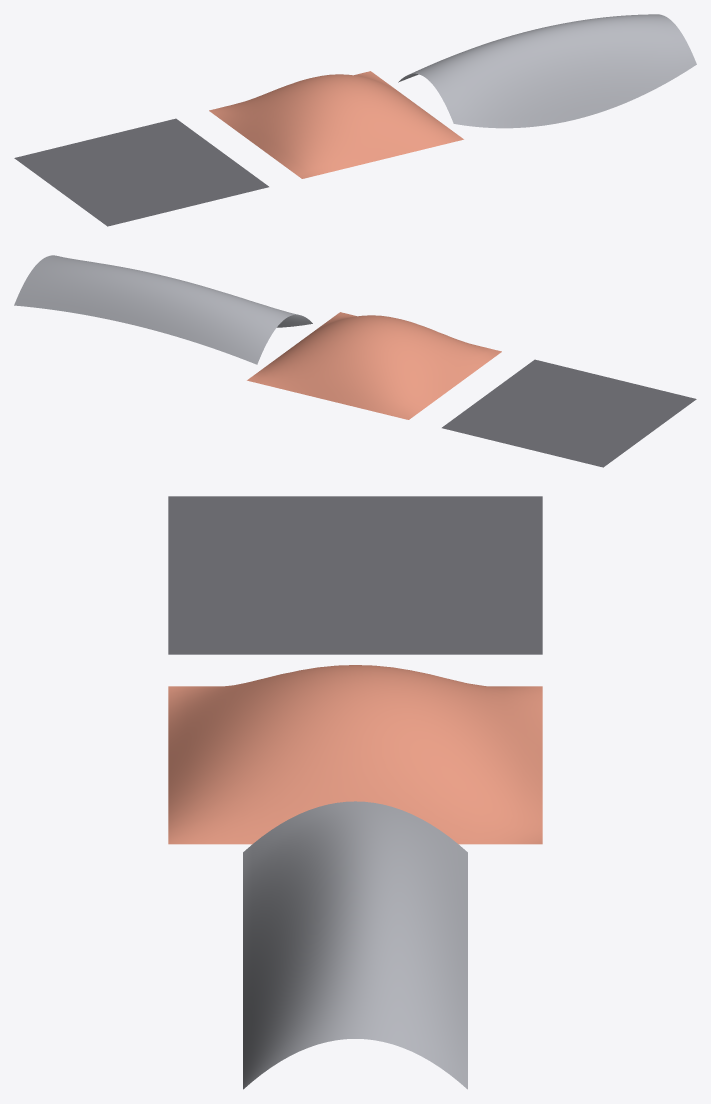
Rendered from bezier_fender.glb.
3 views of the same model, one above another, from view 1: azimuth 30°, elevation 25°; view 2: azimuth 150°, elevation 25°; view 3: azimuth 270°, elevation 25° (orthographic). The views are drawn at different scales.
Visible parts, largest first — view 1: fender, pillow, panel; view 2: pillow, panel, fender; view 3: panel, pillow, fender.
Part boxes in pixels (x1=…): fender: x1=398, y1=14, x2=696, y2=128; pillow: x1=209, y1=71, x2=463, y2=178; panel: x1=14, y1=118, x2=268, y2=226; pillow: x1=247, y1=312, x2=501, y2=419; panel: x1=442, y1=359, x2=696, y2=467; fender: x1=14, y1=255, x2=312, y2=364; panel: x1=168, y1=496, x2=542, y2=654; pillow: x1=168, y1=665, x2=542, y2=844; fender: x1=243, y1=801, x2=467, y2=1089.
Bounding box in the file's own units: 7.5 × 0.7781 × 2.
